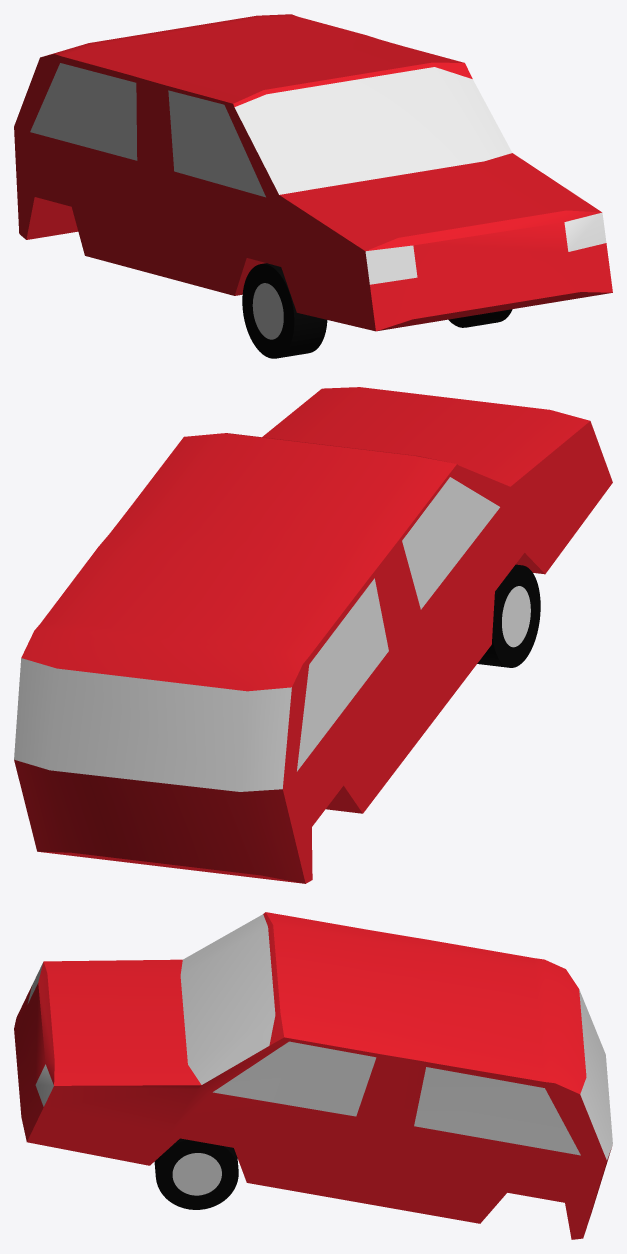
The model's file is Car.fbx.
3 renders of one model, top to bottom at view 1: azimuth 30°, elevation 25°; view 2: azimuth 150°, elevation 25°; view 3: azimuth 270°, elevation 25°, orthographic. The views are drawn at different scales.
Parts seen in each view (by area): view 1: Car; view 2: Car; view 3: Car.
Part boxes in pixels (x1,y1,x2,y2): Car: [14, 14, 612, 358]; Car: [14, 387, 612, 883]; Car: [14, 912, 612, 1239].
Bounding box in the file's own units: 111 × 105 × 235.
